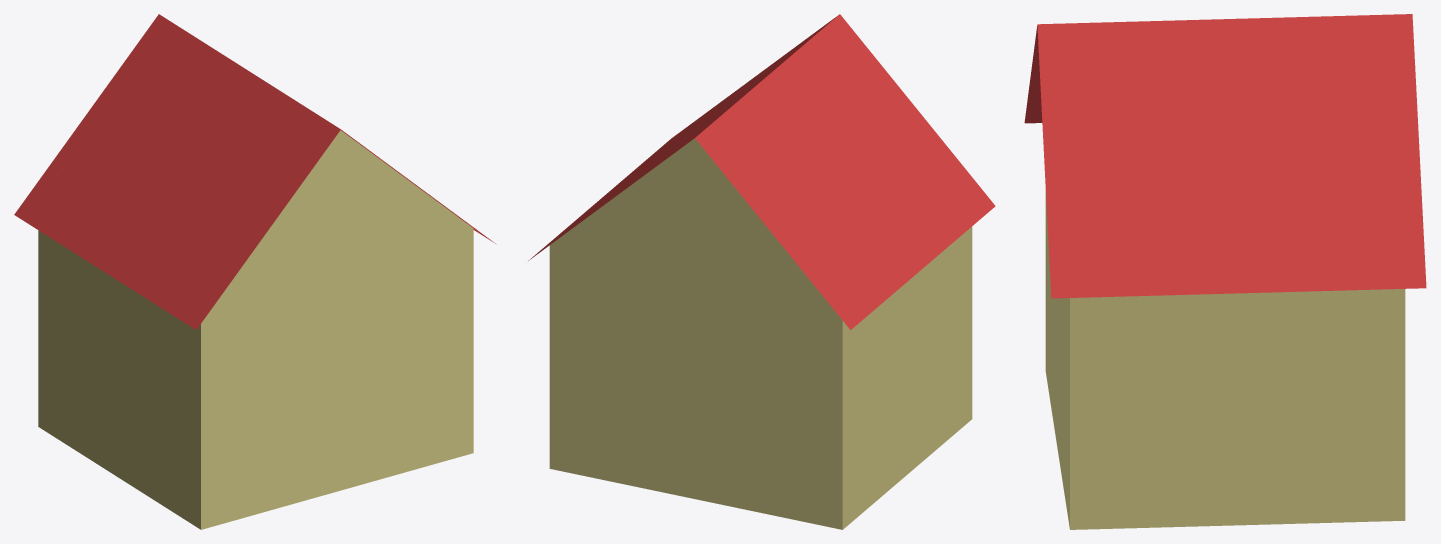
3 renders of one model, left to right at view 1: azimuth 30°, elevation 25°; view 2: azimuth 150°, elevation 25°; view 3: azimuth 270°, elevation 25°, orthographic. The views are drawn at different scales.
Bounding box in the file's own units: 10.97 × 10.05 × 11.69.
